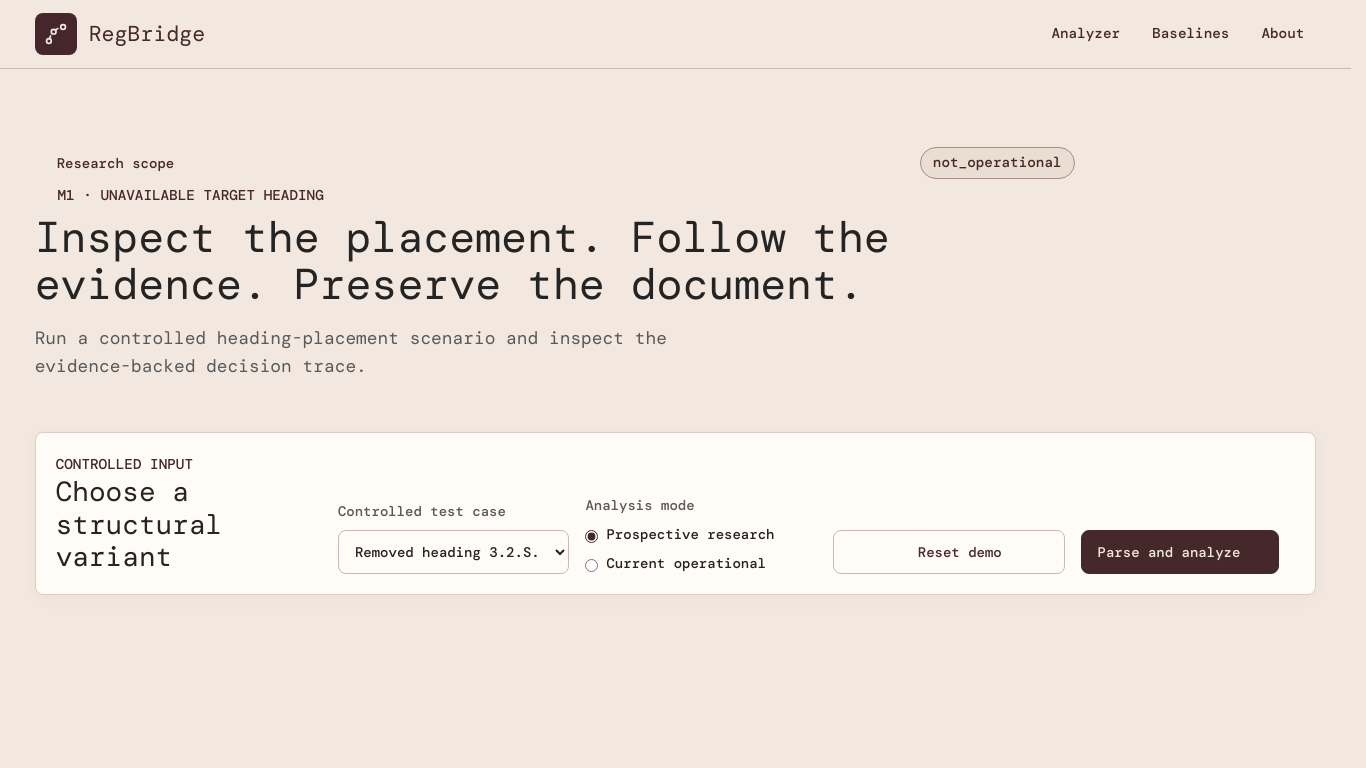
Test: M1 heading case › shows parsed placement, decision, repair, evidence, operational disclosure, and focus target
Expected: the text "Controlled test case" is shown, [338, 501, 569, 574]
Expected: the text "Run a controlled heading-placement scenario and inspect the evidence-backed decision trace." is shown, [35, 326, 667, 378]
Click the button "Parse and analyze" at (1180, 552), box [1080, 530, 1279, 574]
(page scrolled)
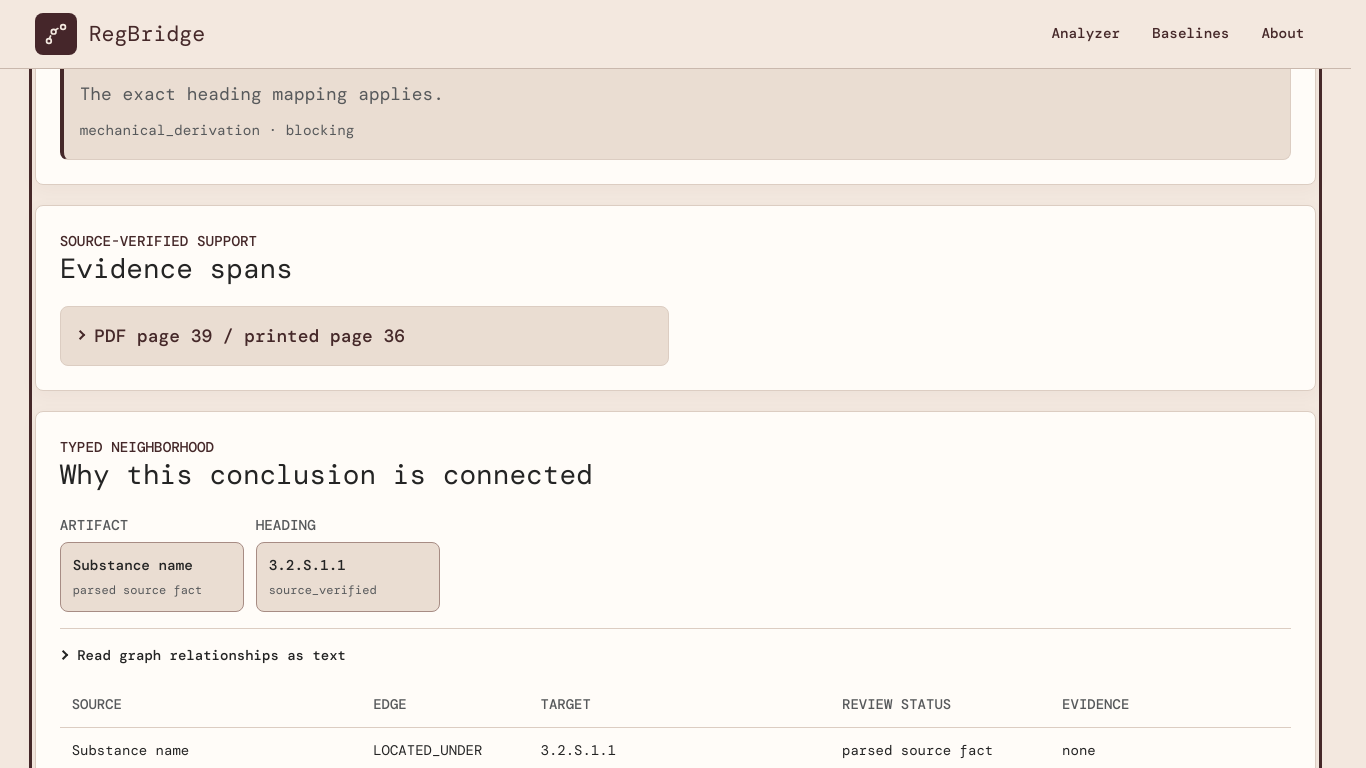
Expected: the heading "PDF page 39 / printed page 36" is shown, [94, 324, 405, 348]
Expected: the heading "Why this conclusion is connected" is shown, [60, 456, 593, 493]
